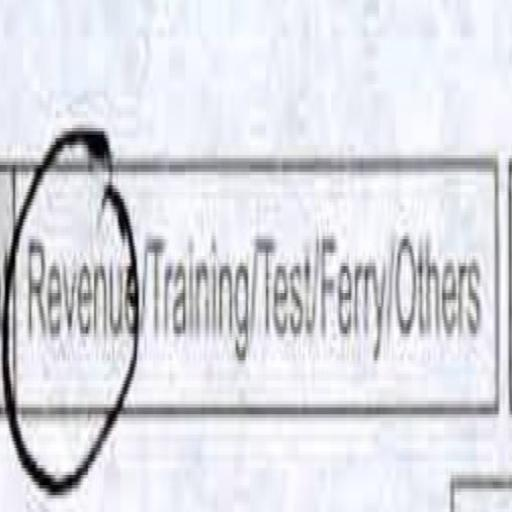check: (11, 106, 138, 511)
